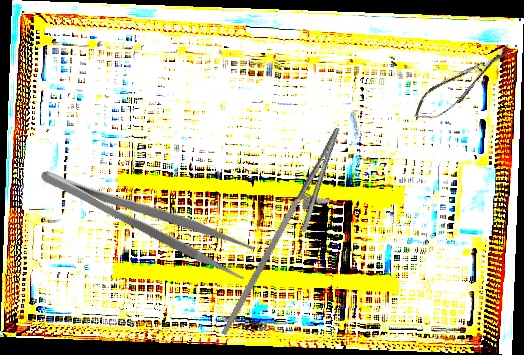Dressing Forceps: (36, 147, 260, 284)
Micro Scissor: (406, 38, 521, 128)
Needle Holder: (220, 116, 358, 353)
